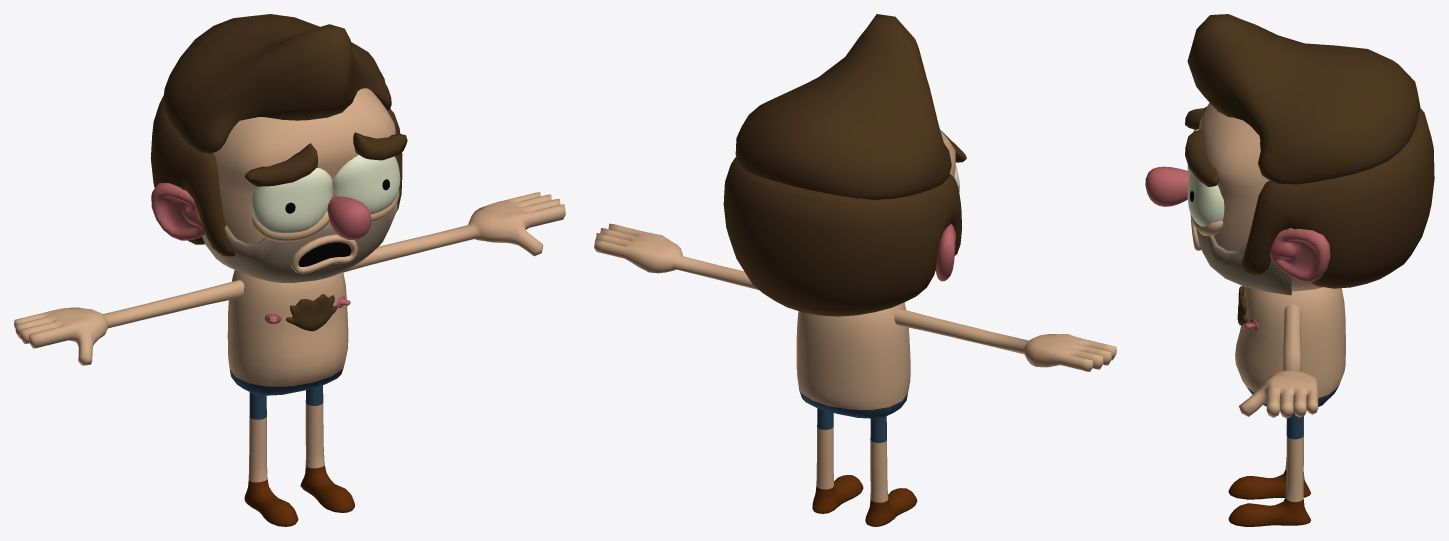
The model's file is Character_LP_PJ.fbx.
The picture shows the model from 3 angles, left to right: view 1: azimuth 30°, elevation 25°; view 2: azimuth 150°, elevation 25°; view 3: azimuth 270°, elevation 25°; orthographic projection. The views are drawn at different scales.
Parts seen in each view (by area): view 1: PJ_Full; view 2: PJ_Full; view 3: PJ_Full.
Part boxes in pixels (left/top/right/bottom): PJ_Full: left=14, top=14, right=565, bottom=526; PJ_Full: left=594, top=14, right=1116, bottom=526; PJ_Full: left=1145, top=14, right=1434, bottom=526.
Size of the model in its own units: 148 by 130 by 69.27.
